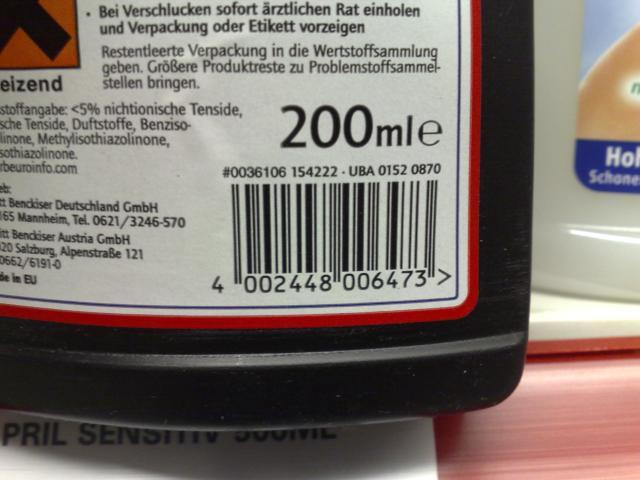Barcode: (204, 179, 441, 297)
